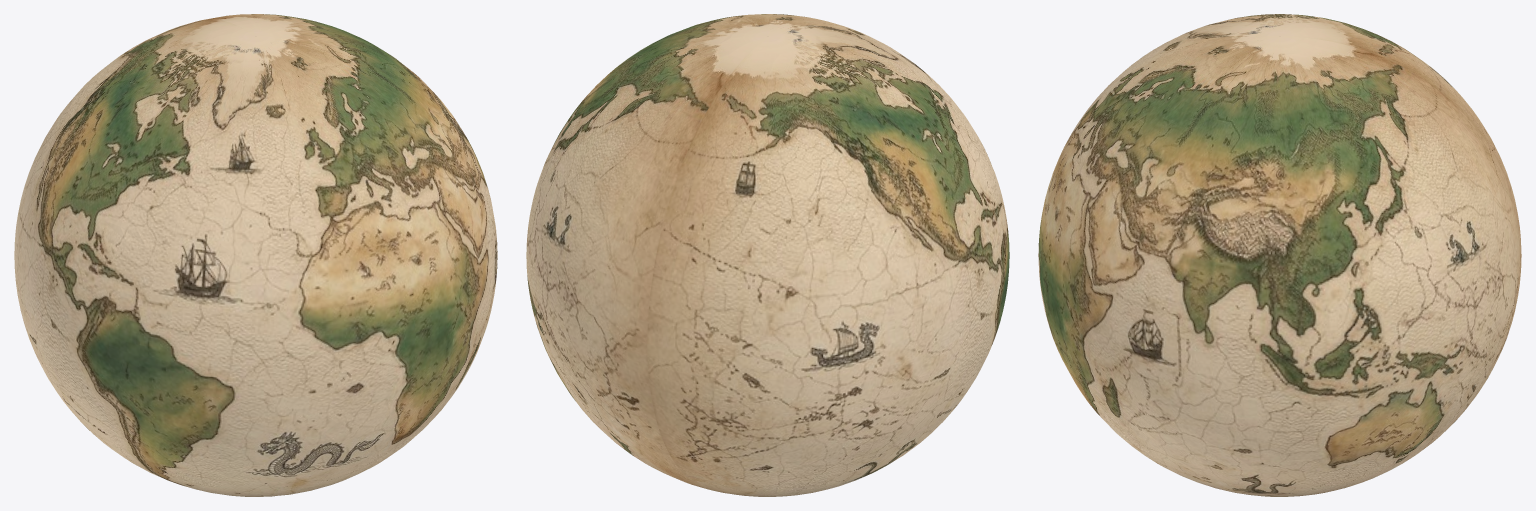
The model's file is Renaissance_Globe_251209v2-optimized.glb.
3 renders of one model, left to right at view 1: azimuth 30°, elevation 25°; view 2: azimuth 150°, elevation 25°; view 3: azimuth 270°, elevation 25°, orthographic.
Visible parts, largest first — view 1: earth; view 2: earth; view 3: earth.
Boxes of the visible parts, left/top/right/bottom form: earth: left=14, top=14, right=497, bottom=496; earth: left=526, top=14, right=1009, bottom=496; earth: left=1038, top=14, right=1521, bottom=496.
Size of the model in its own units: 103 by 103 by 103.
Materials: 1 (1 with a texture image).
